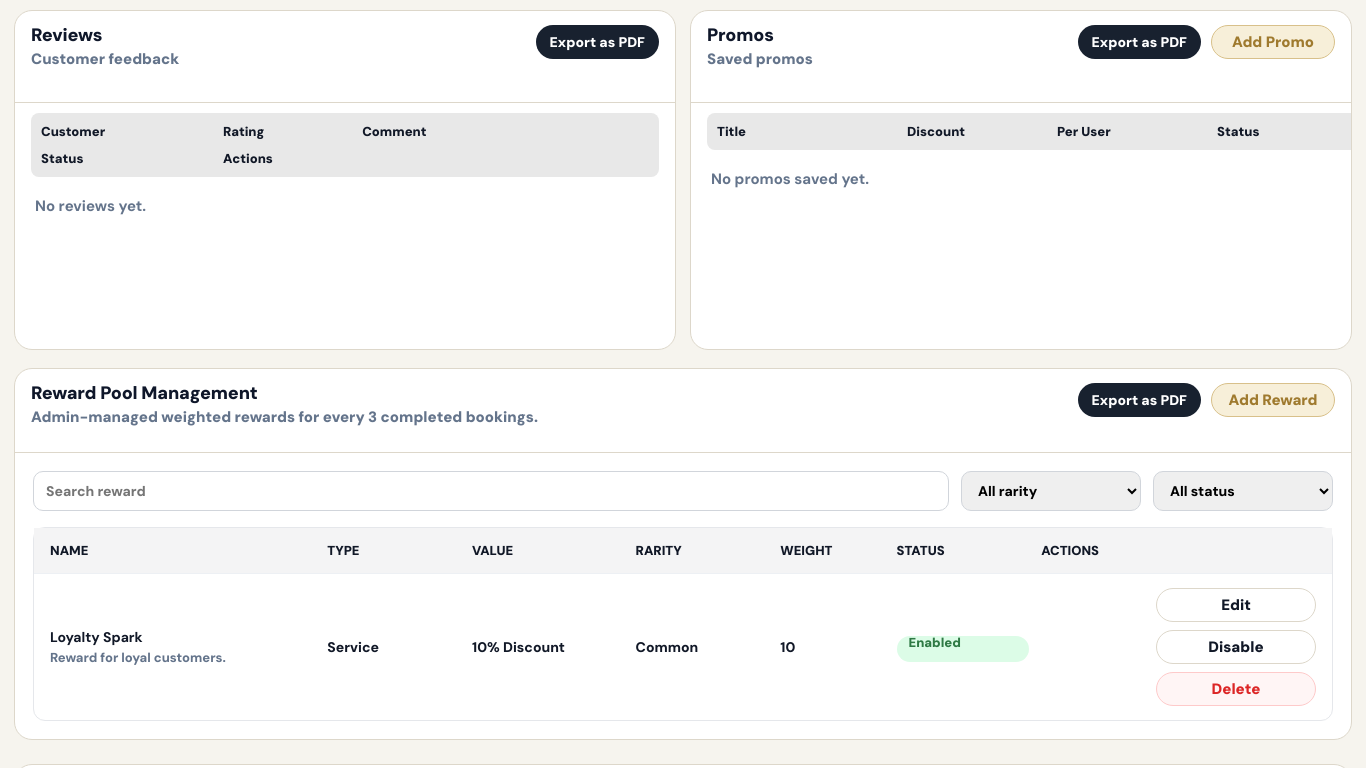
Add Reward modal validation › preselects Free Car Wash as Service when editing
This screenshot has width=1366, height=768.
Click the button "Edit".
click(1236, 605)  # box [1156, 588, 1316, 622]
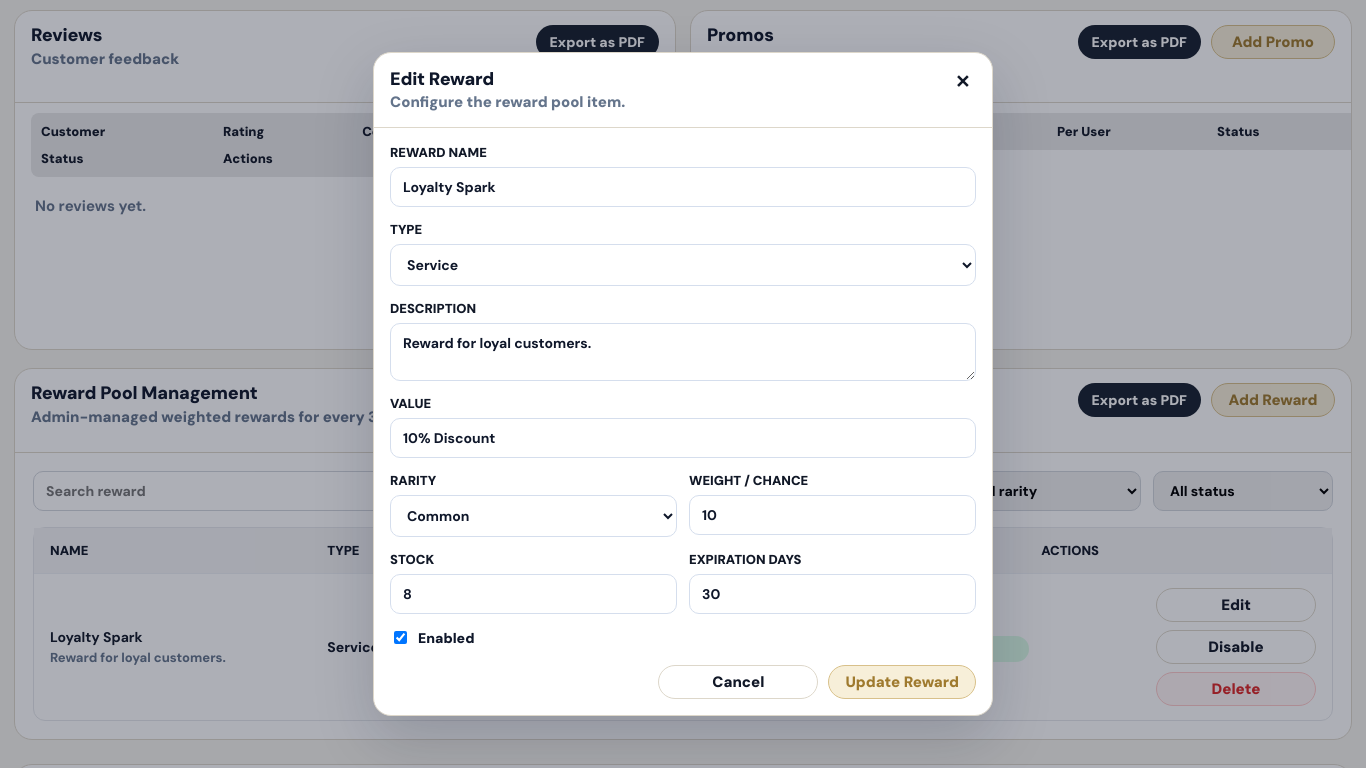
Expected: the dropdown with id "reward-type" shows "Service", [390, 244, 976, 286]
